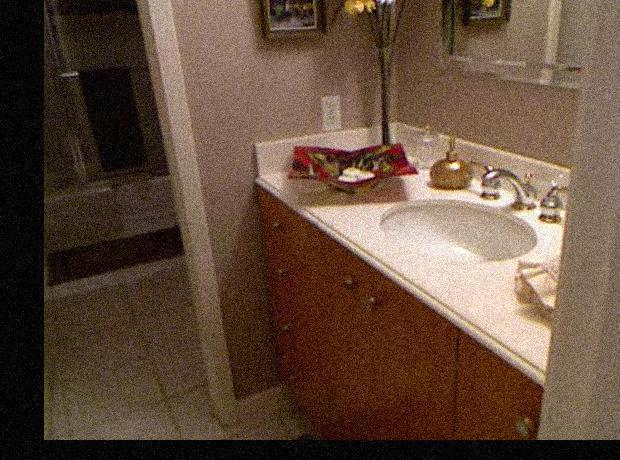Ducha: (44, 0, 210, 280)
Lavamanos: (368, 161, 559, 286)
